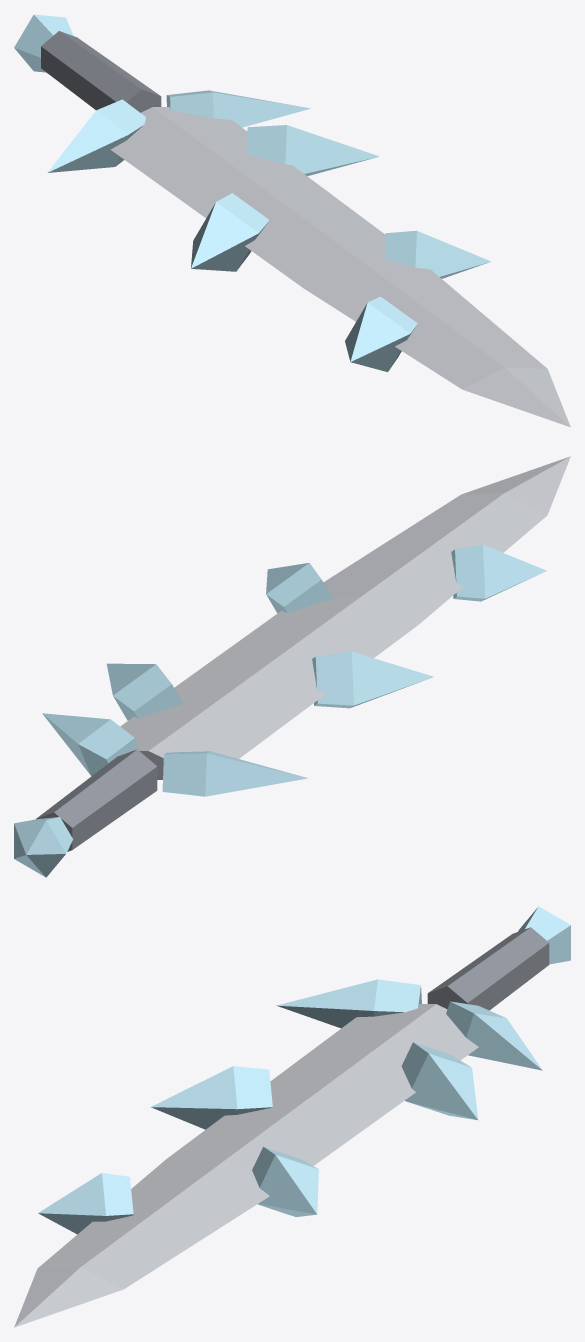
File: rimeblade.glb
3 renders of one model, top to bottom at view 1: azimuth 30°, elevation 25°; view 2: azimuth 150°, elevation 25°; view 3: azimuth 330°, elevation 25°, orthographic.
Parts seen in each view (by area): view 1: rimeblade; view 2: rimeblade; view 3: rimeblade.
Boxes of the visible parts, left/top/right/bottom form: rimeblade: left=14, top=14, right=570, bottom=427; rimeblade: left=14, top=456, right=570, bottom=877; rimeblade: left=14, top=906, right=570, bottom=1327.
Size of the model in its own units: 0.2796 by 0.0659 by 0.98.
